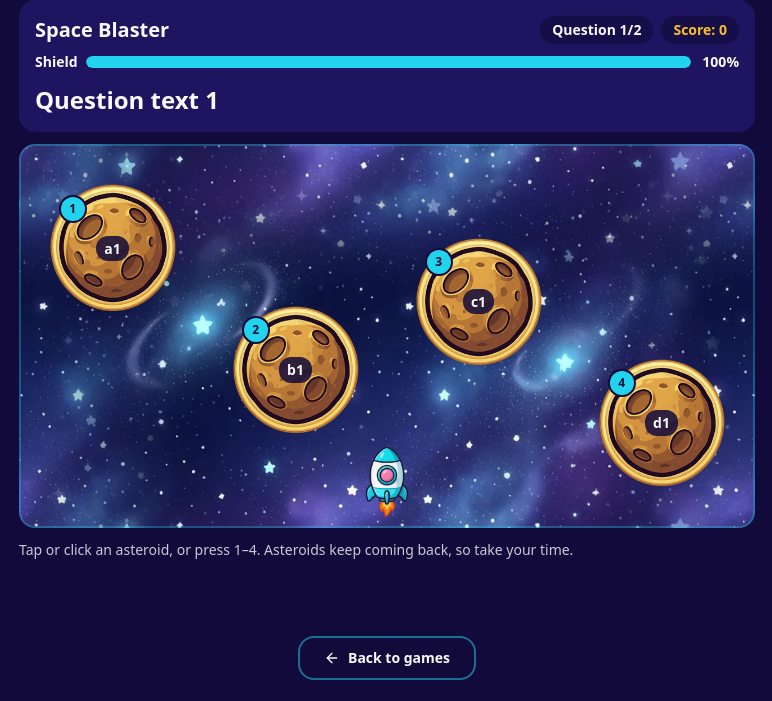
Test: SpaceBlaster › handles a wrong pick
This screenshot has width=772, height=701.
Click the button with test id "asteroid" showing "b1 2": (296, 370) [224,298,368,442]
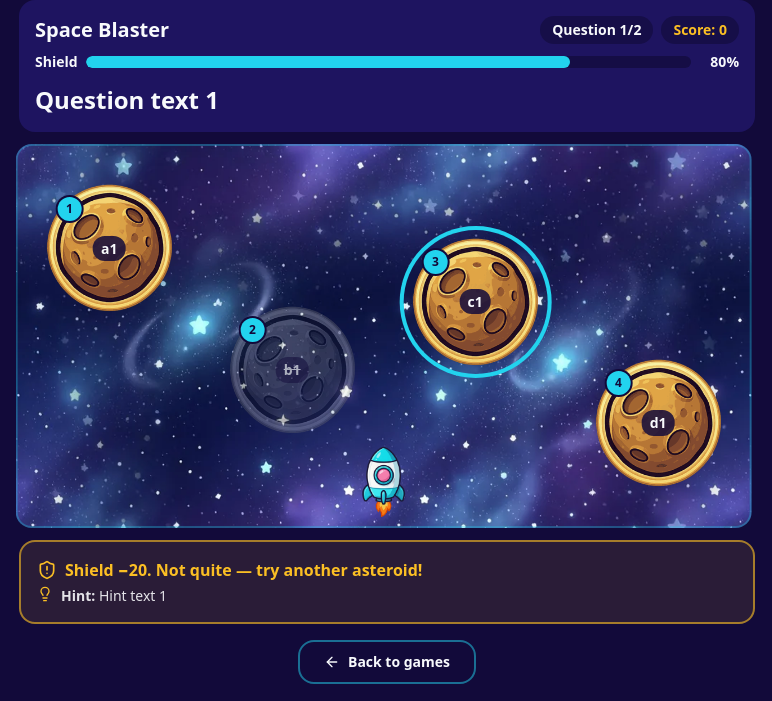
Now the text "Shield −20. Not quite — try another asteroid!" is shown, box [37,559,422,581]
Now the text "Hint text 1" is shown, box [99,586,167,605]
Now the button with test id "asteroid" showing "b1 2" is disabled, box [214,298,358,442]
